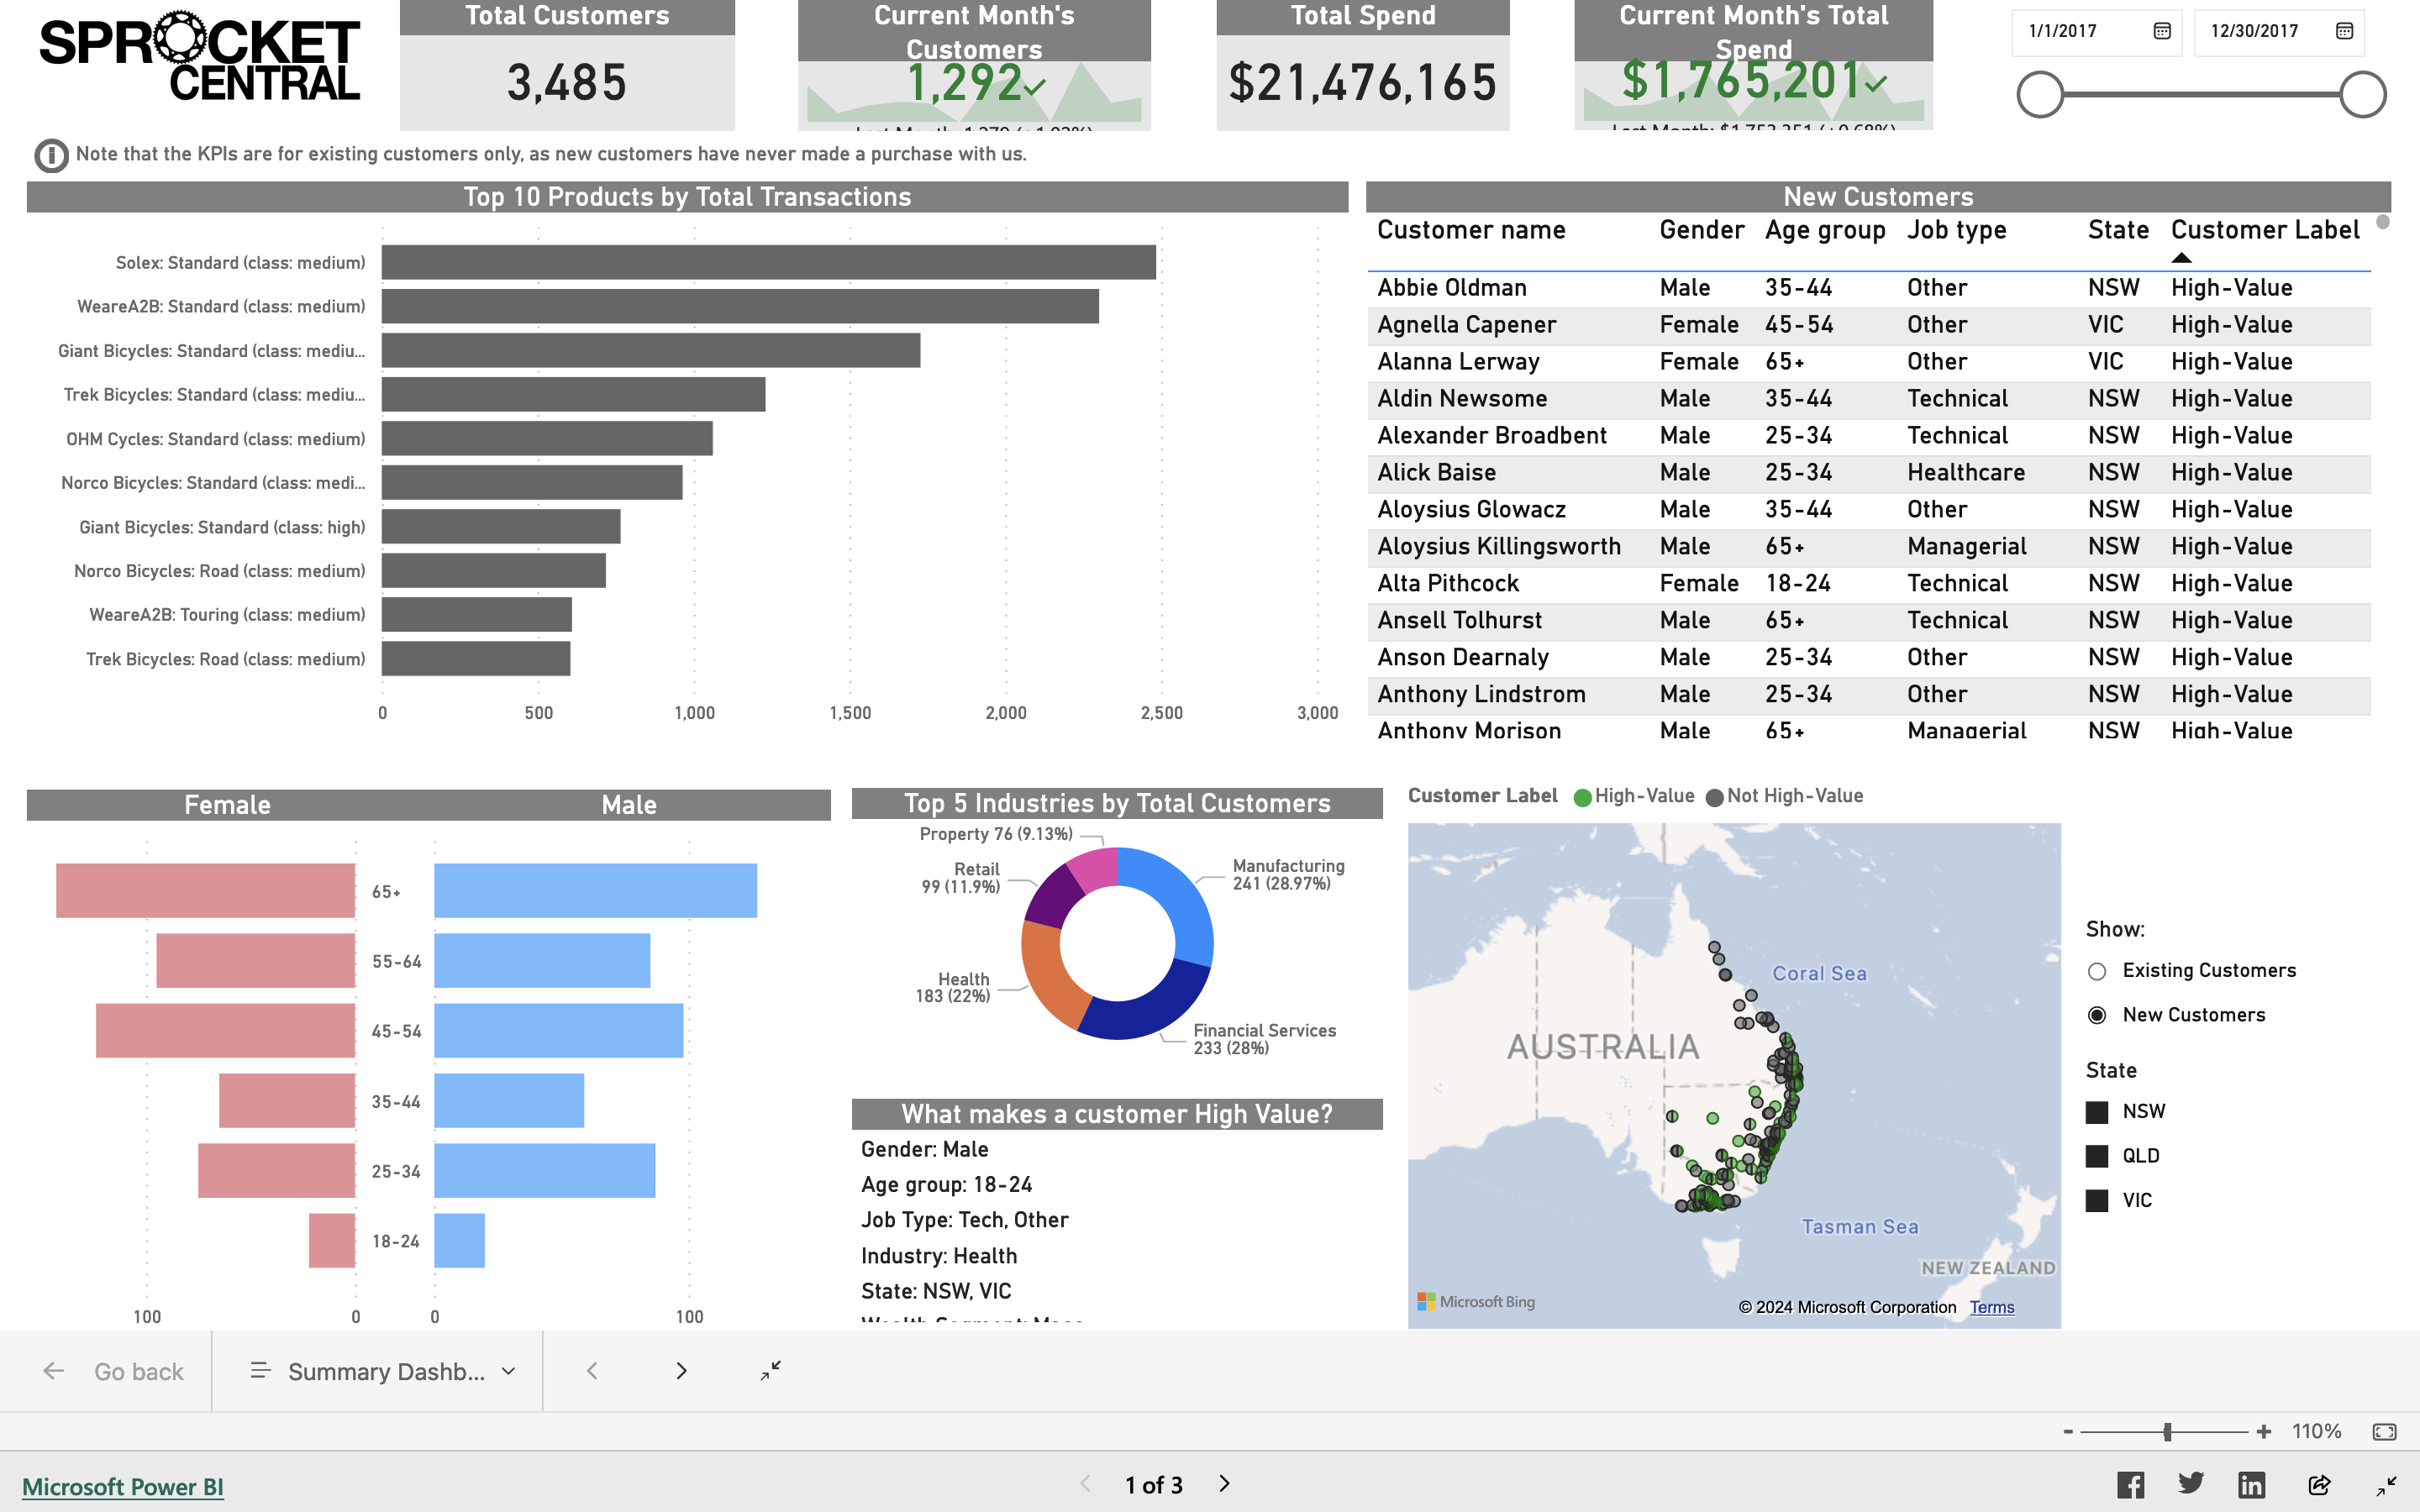

The dashboard page shown, as its layout file describes it:
{"tool":"powerbi","page":{"name":"Summary Dashboard","canvas":[1280,720],"ordinal":0},"visuals":[{"type":"map","fields":{"Series":["AllCustomers.customer_value_label"],"Y":["AllCustomers.lat"],"X":["AllCustomers.lon"]},"box":[747.7,417.6,353.3,302.4],"z":0},{"type":"image","box":[0,0,191.9,71.5],"z":1000},{"type":"card","title":"Total Spend","fields":{"Values":["Measures Table.Total Spend"]},"box":[643.2,0,158.8,71.1],"z":2000},{"type":"kpi","title":"Current Month''s Total Spend","fields":{"Goal":["Measures Table.Total Spend Last Month"],"Indicator":["Measures Table.Total Spend"],"TrendLine":["Dates.Date Hierarchy.StartOfMonth"]},"box":[836.8,0,194.3,70.3],"z":3000},{"type":"kpi","title":"Current Month''s Customers","fields":{"Indicator":["Measures Table.Total Customers"],"Goal":["Measures Table.Customers Last Month"],"TrendLine":["Dates.Date Hierarchy.StartOfMonth"]},"box":[417.7,0,190.7,71.1],"z":4000},{"type":"clusteredBarChart","title":"Top 10 Products by Total Transactions","fields":{"Category":["Transactions.product"],"Y":["Measures Table.Total Transactions"]},"box":[0,97.9,714.9,300.6],"z":5000},{"type":"tableEx","fields":{"Values":["AllCustomers.customer_name","AllCustomers.gender","AllCustomers.age_group","AllCustomers.job_type","AllCustomers.state","AllCustomers.customer_value_label"]},"box":[724.6,97.9,554.5,301.5],"z":6000},{"type":"card","title":"Total Customers","fields":{"Values":["Measures Table.Total Customers"]},"box":[201.6,0,181.3,71.1],"z":7000},{"type":"slicer","fields":{"Values":["AllCustomers.state"]},"box":[1100.9,567,179.1,102.2],"z":8000},{"type":"donutChart","title":"Top 5 Industries by Total Customers","fields":{"Category":["AllCustomers.job_industry_category"],"Y":["Measures Table.Total Customers (All)"]},"box":[446.1,426.7,287.4,156.9],"z":9000},{"type":"clusteredBarChart","title":"Female","fields":{"Category":["AllCustomers.age_group"],"Y":["Measures Table.Total Customers (All)"]},"box":[0,426.9,217.5,293],"z":10000},{"type":"clusteredBarChart","title":"Male","fields":{"Y":["Measures Table.Total Customers (All)"],"Category":["AllCustomers.age_group"]},"box":[217.5,426.9,217.5,293],"z":11000},{"type":"slicer","fields":{"Values":["AllCustomers.existing_or_new"]},"box":[1100.6,491.2,179.4,77.6],"z":12000},{"type":"textbox","title":"What makes a customer High Value?","box":[446.1,594.3,287.4,125.7],"z":13000},{"type":"actionButton","box":[0,71.1,567.3,26.9],"z":14000},{"type":"slicer","fields":{"Values":["Dates.Date"]},"box":[1065.7,0,214.3,68.9],"z":15000}]}

Visuals, with their boxes on the page's 1280x720 design canvas (x1, y1, x2, y2). These are canvas units, not pixel positions in the 2420x1512 screenshot, which may show the page scaled, cropped or inside an application window:
map - AllCustomers.customer_value_label x AllCustomers.lat: x1=748, y1=418, x2=1101, y2=720
image: x1=0, y1=0, x2=192, y2=72
"Total Spend" card: x1=643, y1=0, x2=802, y2=71
"Current Month''s Total Spend" kpi: x1=837, y1=0, x2=1031, y2=70
"Current Month''s Customers" kpi: x1=418, y1=0, x2=608, y2=71
"Top 10 Products by Total Transactions" clusteredBarChart: x1=0, y1=98, x2=715, y2=398
tableEx - AllCustomers.customer_name x AllCustomers.gender: x1=725, y1=98, x2=1279, y2=399
"Total Customers" card: x1=202, y1=0, x2=383, y2=71
slicer - AllCustomers.state: x1=1101, y1=567, x2=1280, y2=669
"Top 5 Industries by Total Customers" donutChart: x1=446, y1=427, x2=734, y2=584
"Female" clusteredBarChart: x1=0, y1=427, x2=218, y2=720
"Male" clusteredBarChart: x1=218, y1=427, x2=435, y2=720
slicer - AllCustomers.existing_or_new: x1=1101, y1=491, x2=1280, y2=569
"What makes a customer High Value?" textbox: x1=446, y1=594, x2=734, y2=720
actionButton: x1=0, y1=71, x2=567, y2=98
slicer - Dates.Date: x1=1066, y1=0, x2=1280, y2=69
